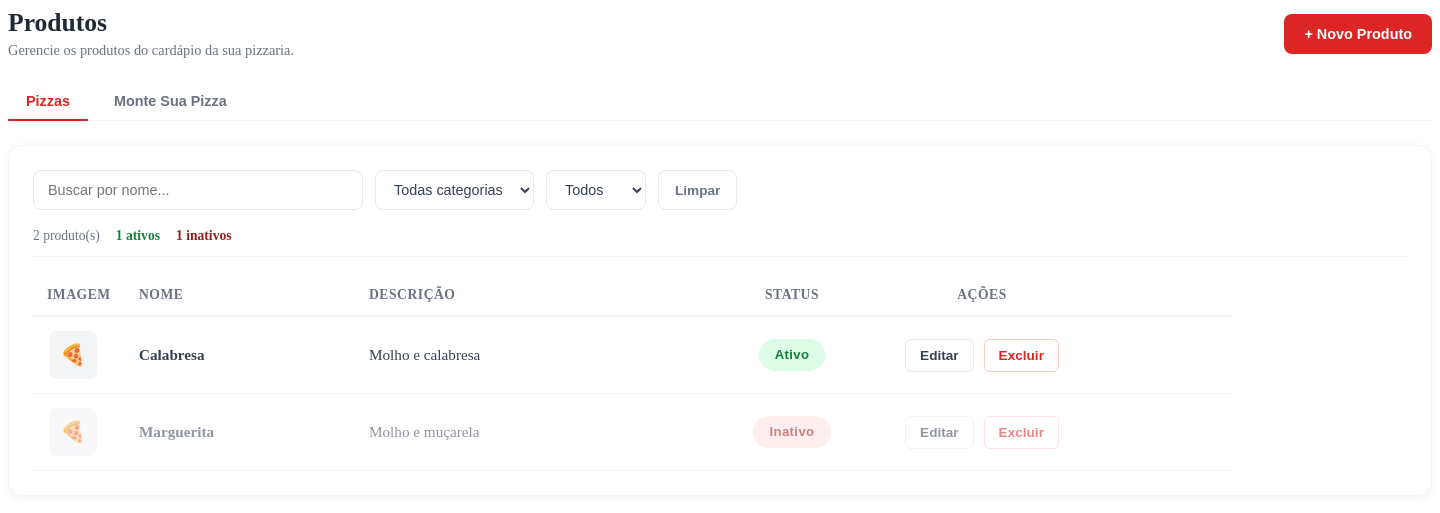
Scenario: AdminProdutos - aba Monte Sua Pizza › troca de aba busca e lista os Monte Sua Pizza
Expected: the text "Calabresa" is shown, [117, 316, 347, 394]
Click the button "Monte Sua Pizza".
click(170, 102)  # box [96, 83, 245, 121]
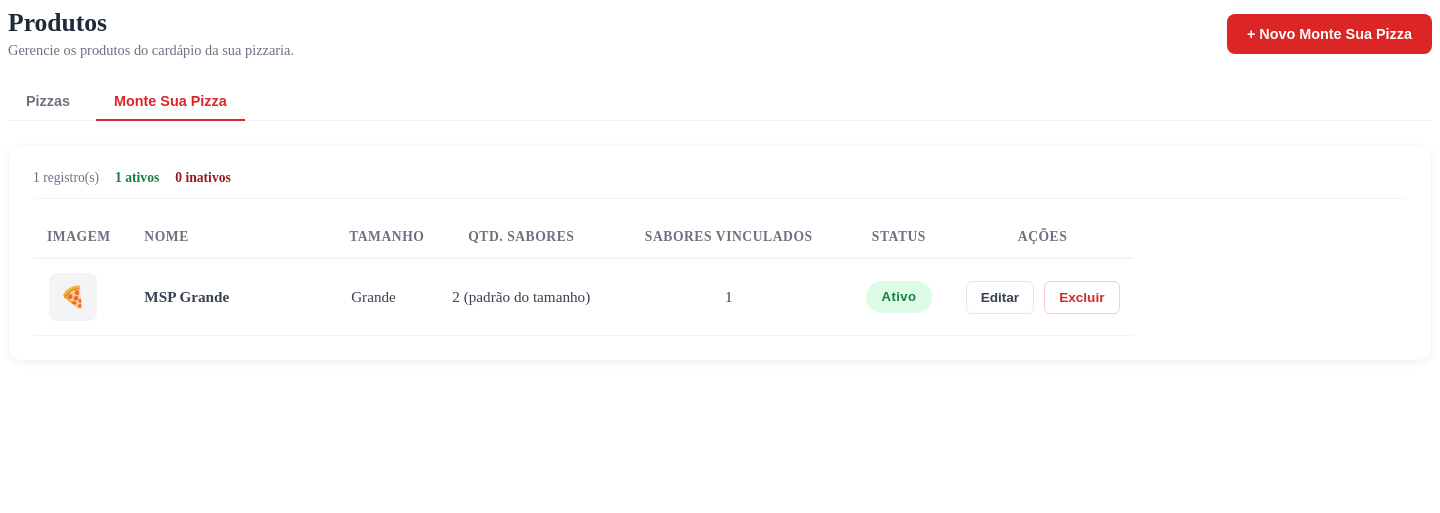
Now the text "MSP Grande" is shown, box [122, 258, 335, 336]
Now the text "Grande" is shown, box [335, 258, 431, 336]
